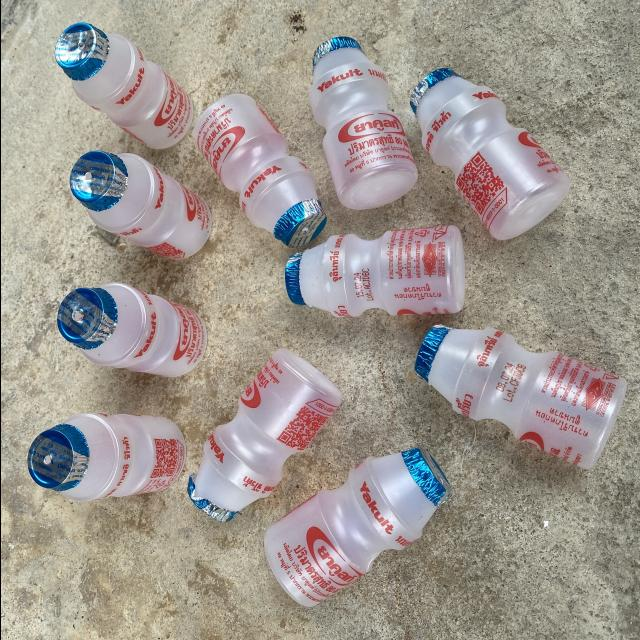plastik: (414, 325, 627, 469), (263, 447, 449, 606), (410, 68, 569, 240), (187, 348, 341, 520), (193, 94, 325, 247), (308, 37, 417, 210), (54, 23, 192, 148), (284, 226, 464, 317), (68, 151, 210, 259), (27, 413, 184, 502), (57, 282, 205, 376)
